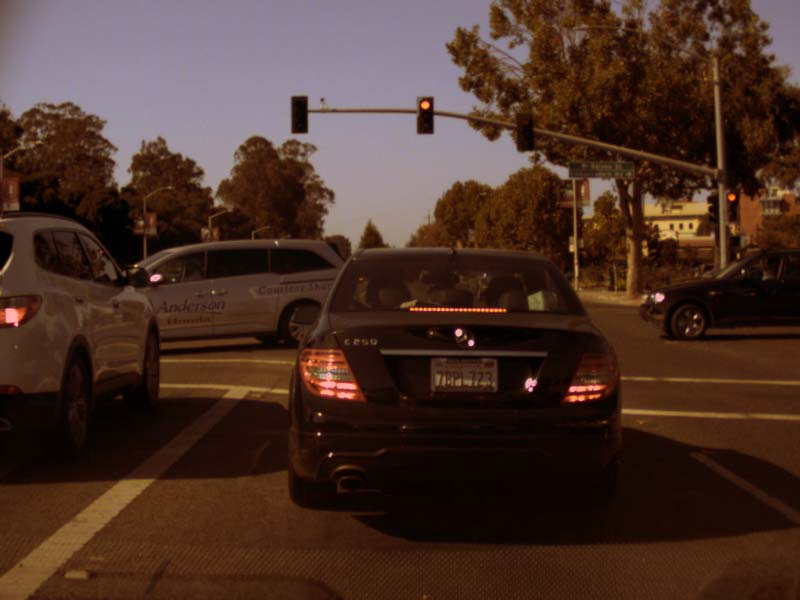Red: (515, 111, 533, 150), (418, 95, 433, 132), (726, 189, 739, 222)
